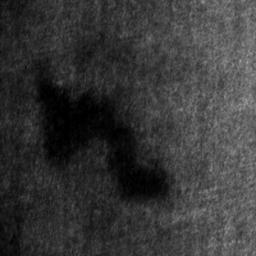Patches: (36, 59, 168, 200)
